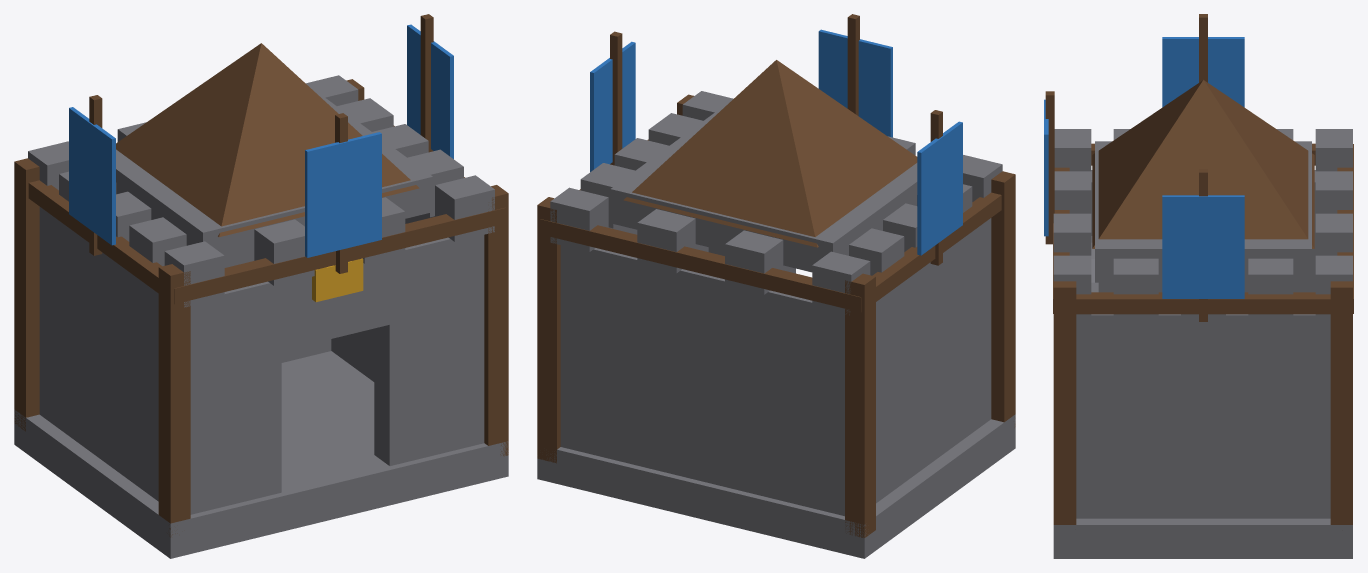
The model's file is RC_Fortress_Blue.glb.
The picture shows the model from 3 angles, left to right: view 1: azimuth 30°, elevation 25°; view 2: azimuth 150°, elevation 25°; view 3: azimuth 270°, elevation 25°; orthographic projection. The views are drawn at different scales.
Parts seen in each view (by area): view 1: RC_Fortress_Blue_Walls, RC_Fortress_Blue_Base, RC_Fortress_Blue_WoodFrame, RC_Fortress_Blue_Roof, RC_Fortress_Blue_Battlements, RC_Fortress_Blue_Banner_Front, RC_Fortress_Blue_RoofBase, RC_Fortress_Blue_Banner_L, RC_Fortress_Blue_Banner_R, RC_Fortress_Blue_BannerPoles, RC_Fortress_Blue_Arch, RC_Fortress_Blue_Emblem; view 2: RC_Fortress_Blue_Walls, RC_Fortress_Blue_WoodFrame, RC_Fortress_Blue_Roof, RC_Fortress_Blue_Base, RC_Fortress_Blue_Battlements, RC_Fortress_Blue_RoofBase, RC_Fortress_Blue_Banner_Front, RC_Fortress_Blue_Banner_L, RC_Fortress_Blue_Banner_R, RC_Fortress_Blue_BannerPoles; view 3: RC_Fortress_Blue_Walls, RC_Fortress_Blue_Roof, RC_Fortress_Blue_WoodFrame, RC_Fortress_Blue_Battlements, RC_Fortress_Blue_Base, RC_Fortress_Blue_Banner_R, RC_Fortress_Blue_RoofBase, RC_Fortress_Blue_Banner_L, RC_Fortress_Blue_BannerPoles, RC_Fortress_Blue_Banner_Front.
Part boxes in pixels (<box>): RC_Fortress_Blue_Walls: <box>39,207,484,514</box>; RC_Fortress_Blue_Base: <box>14,351,508,558</box>; RC_Fortress_Blue_WoodFrame: <box>14,79,508,537</box>; RC_Fortress_Blue_Roof: <box>116,43,419,237</box>; RC_Fortress_Blue_Battlements: <box>28,75,494,307</box>; RC_Fortress_Blue_Banner_Front: <box>305,132,381,257</box>; RC_Fortress_Blue_RoofBase: <box>116,94,432,262</box>; RC_Fortress_Blue_Banner_L: <box>69,107,115,245</box>; RC_Fortress_Blue_Banner_R: <box>407,24,453,158</box>; RC_Fortress_Blue_BannerPoles: <box>89,14,433,273</box>; RC_Fortress_Blue_Arch: <box>271,268,399,349</box>; RC_Fortress_Blue_Emblem: <box>312,258,363,302</box>; RC_Fortress_Blue_Walls: <box>560,218,991,516</box>; RC_Fortress_Blue_WoodFrame: <box>537,94,1015,537</box>; RC_Fortress_Blue_Roof: <box>623,60,917,247</box>; RC_Fortress_Blue_Base: <box>537,414,1015,558</box>; RC_Fortress_Blue_Battlements: <box>550,91,1002,315</box>; RC_Fortress_Blue_RoofBase: <box>610,109,917,272</box>; RC_Fortress_Blue_Banner_Front: <box>818,29,892,137</box>; RC_Fortress_Blue_Banner_L: <box>917,121,962,255</box>; RC_Fortress_Blue_Banner_R: <box>590,41,635,171</box>; RC_Fortress_Blue_BannerPoles: <box>610,14,942,265</box>; RC_Fortress_Blue_Walls: <box>1076,170,1330,518</box>; RC_Fortress_Blue_Roof: <box>1092,80,1314,248</box>; RC_Fortress_Blue_WoodFrame: <box>1053,143,1353,524</box>; RC_Fortress_Blue_Battlements: <box>1053,129,1352,315</box>; RC_Fortress_Blue_Base: <box>1053,518,1352,558</box>; RC_Fortress_Blue_Banner_R: <box>1162,195,1244,298</box>; RC_Fortress_Blue_RoofBase: <box>1095,141,1311,282</box>; RC_Fortress_Blue_Banner_L: <box>1162,37,1244,107</box>; RC_Fortress_Blue_BannerPoles: <box>1045,14,1207,321</box>; RC_Fortress_Blue_Banner_Front: <box>1044,99,1048,236</box>.
Size of the model in its own units: 5.06 by 5.9 by 4.14.
